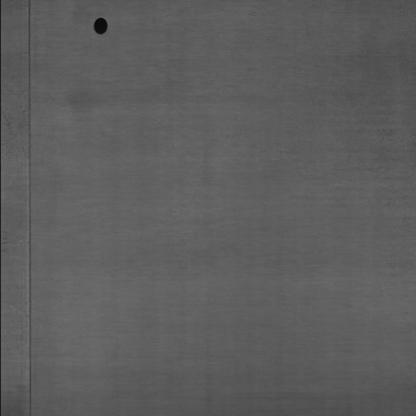punching_hole: (88, 15, 112, 39)
welding_line: (18, 2, 42, 416)
